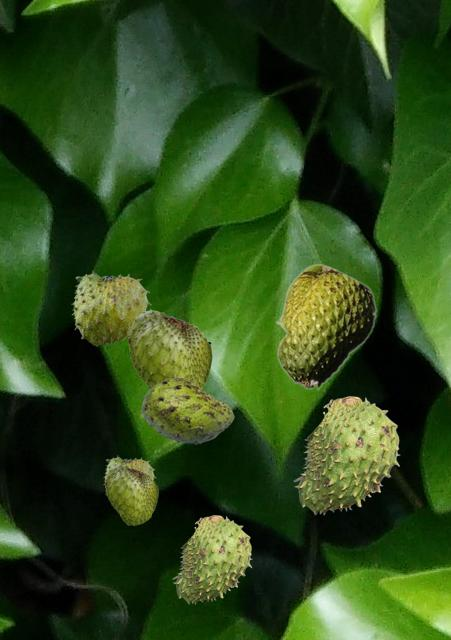guyabano: (275, 263, 376, 390), (293, 396, 399, 514), (172, 515, 251, 603), (128, 308, 211, 388), (141, 377, 233, 443), (71, 270, 150, 345), (105, 463, 157, 524), (103, 455, 155, 495)
